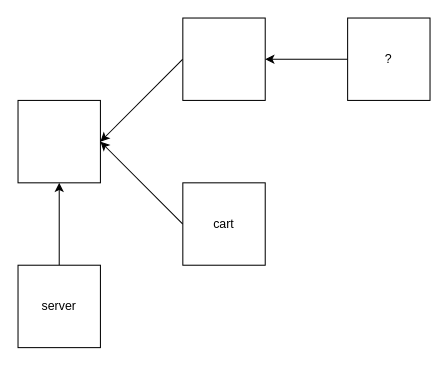
Image size: 448x366. Some labels were removed from this diagram. The centre of each missing label's shape, as x and y in pixels:
"home" belongs at point 58,141.
"pdp" belongs at point 223,58.
